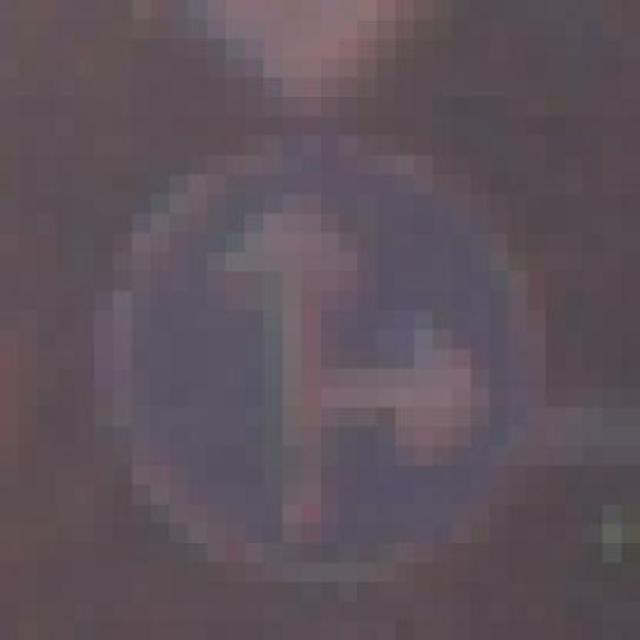Go Straight or Turn Right: (57, 116, 566, 601)
